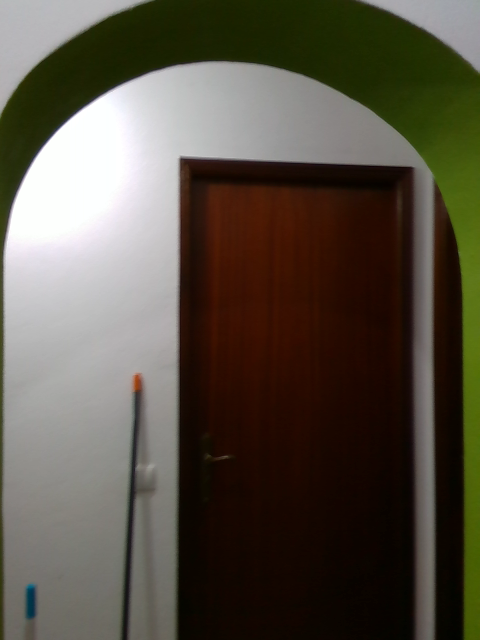closed: (175, 151, 417, 636)
